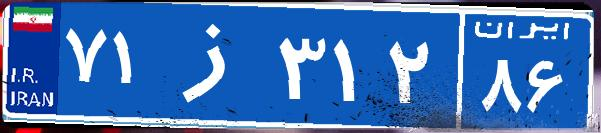1: (330, 28, 385, 110), (110, 28, 158, 105)
2: (385, 28, 445, 110)
3: (273, 28, 330, 110)
6: (525, 38, 570, 115)
7: (57, 26, 110, 107)
8: (475, 38, 525, 113)
ز: (158, 15, 273, 115)
